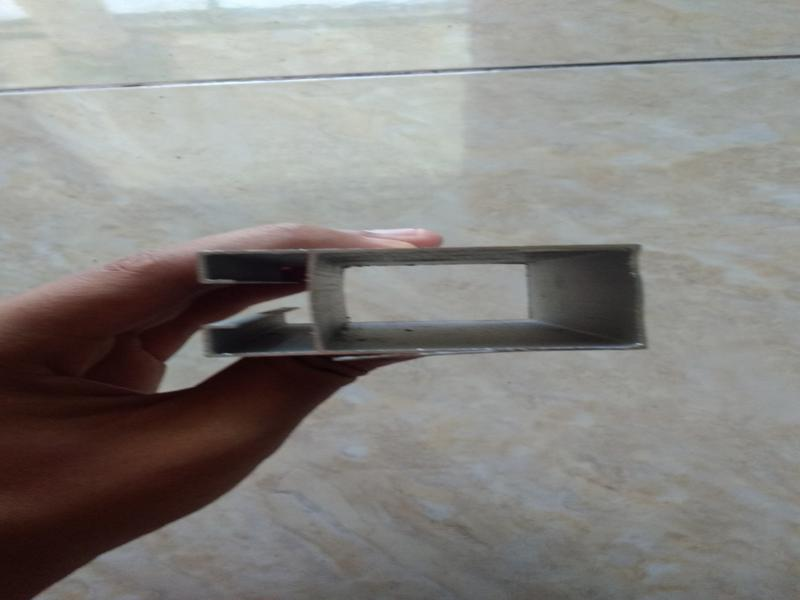Aluminium_1: (180, 225, 679, 362)
